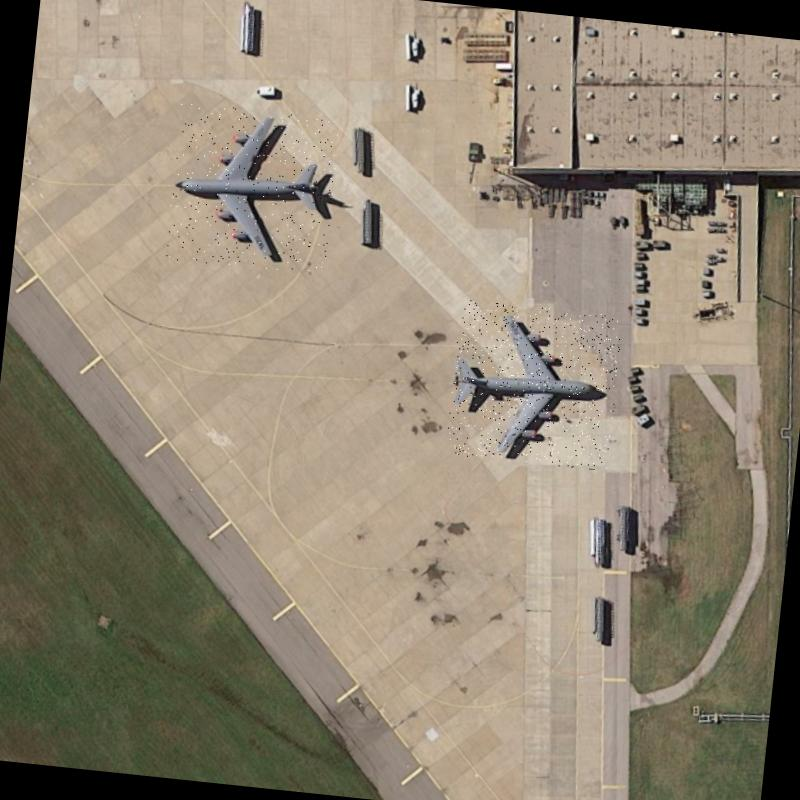A14: (164, 102, 340, 276), (445, 299, 623, 471)
